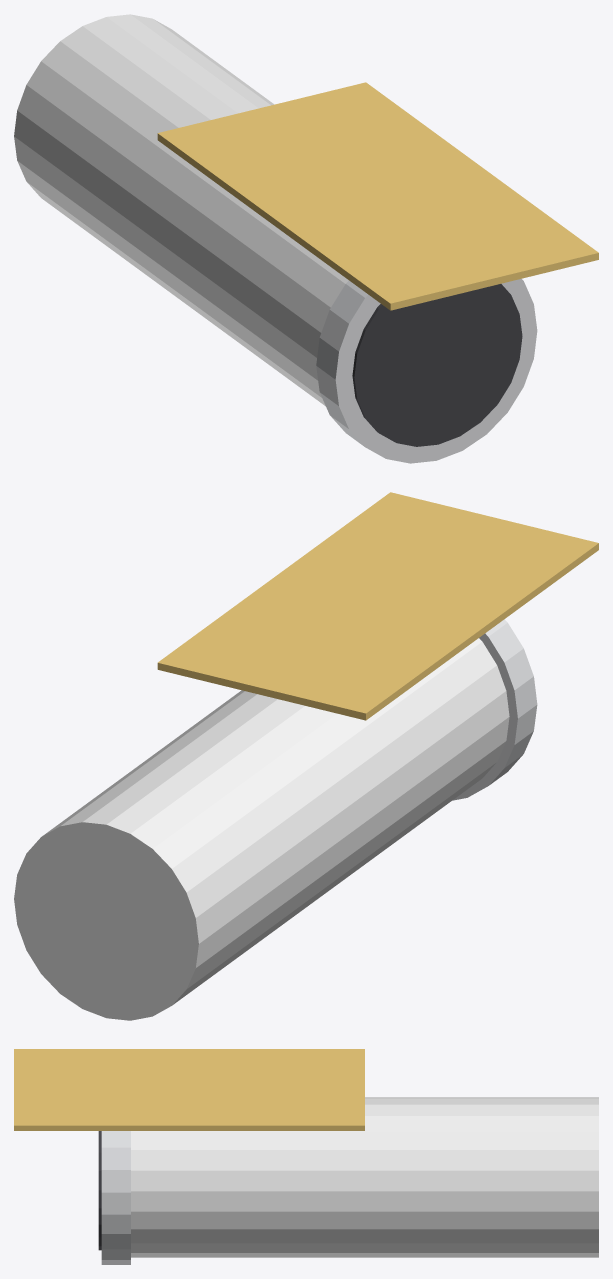
Rendered from ins_tel.fbx.
3 renders of one model, top to bottom at view 1: azimuth 30°, elevation 25°; view 2: azimuth 150°, elevation 25°; view 3: azimuth 270°, elevation 25°, orthographic. The views are drawn at different scales.
Visible parts, largest first — view 1: ins_tel; view 2: ins_tel; view 3: ins_tel.
Boxes of the visible parts, x1,y1,x2,y2 form: ins_tel: (14, 14, 598, 463); ins_tel: (14, 492, 598, 1020); ins_tel: (14, 1049, 598, 1264).
Size of the model in its own units: 0.62 by 0.64 by 2.
